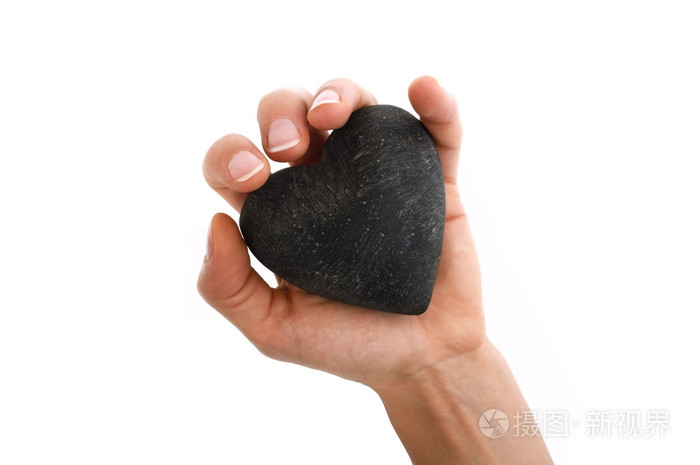no-phone: (185, 70, 494, 409)
